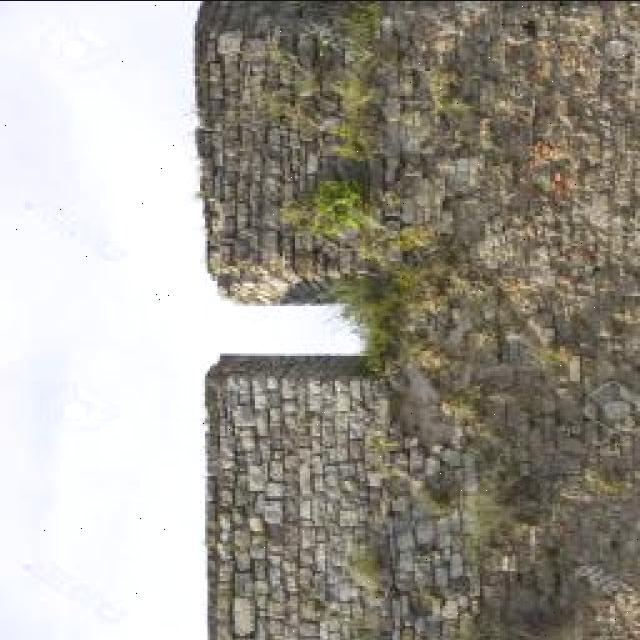crack: (7, 21, 146, 270), (456, 92, 548, 201), (361, 367, 394, 626), (563, 175, 640, 267), (586, 29, 640, 158), (408, 10, 497, 87), (498, 22, 565, 95), (245, 114, 310, 186), (465, 221, 518, 272), (257, 505, 308, 557), (287, 419, 321, 470), (583, 192, 618, 232), (322, 459, 362, 493), (205, 458, 222, 519), (281, 225, 299, 273), (217, 31, 245, 56), (218, 210, 240, 241), (604, 37, 632, 61), (232, 597, 252, 628), (395, 529, 418, 555), (195, 126, 212, 160), (346, 420, 368, 446), (254, 494, 275, 520), (260, 227, 280, 254), (247, 467, 268, 491), (262, 502, 284, 524), (215, 272, 237, 293), (232, 529, 252, 552), (265, 484, 286, 505), (235, 406, 256, 427), (237, 431, 257, 453), (235, 572, 254, 595), (339, 508, 360, 528), (298, 468, 313, 496), (250, 542, 268, 564), (281, 396, 299, 417), (334, 392, 351, 414), (234, 551, 252, 571), (253, 619, 270, 640), (298, 500, 314, 522), (248, 515, 266, 534), (348, 381, 364, 402), (253, 562, 269, 582), (217, 513, 232, 534), (281, 381, 295, 401)
dampness: (443, 166, 631, 337), (230, 499, 361, 636)
vegetation: (193, 1, 638, 638), (289, 7, 470, 187), (315, 249, 444, 380), (213, 23, 322, 140), (204, 226, 346, 307), (21, 556, 127, 622), (315, 73, 391, 163), (283, 177, 377, 246), (326, 3, 391, 92), (308, 153, 391, 213), (330, 267, 411, 328), (382, 260, 439, 306), (364, 431, 414, 465)
